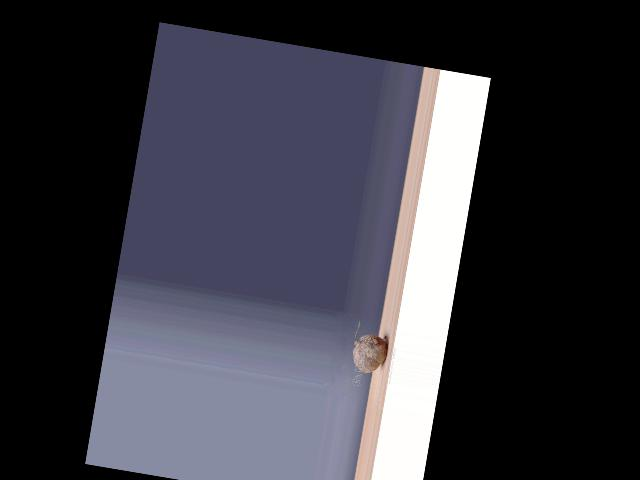beet: (349, 319, 391, 375)
